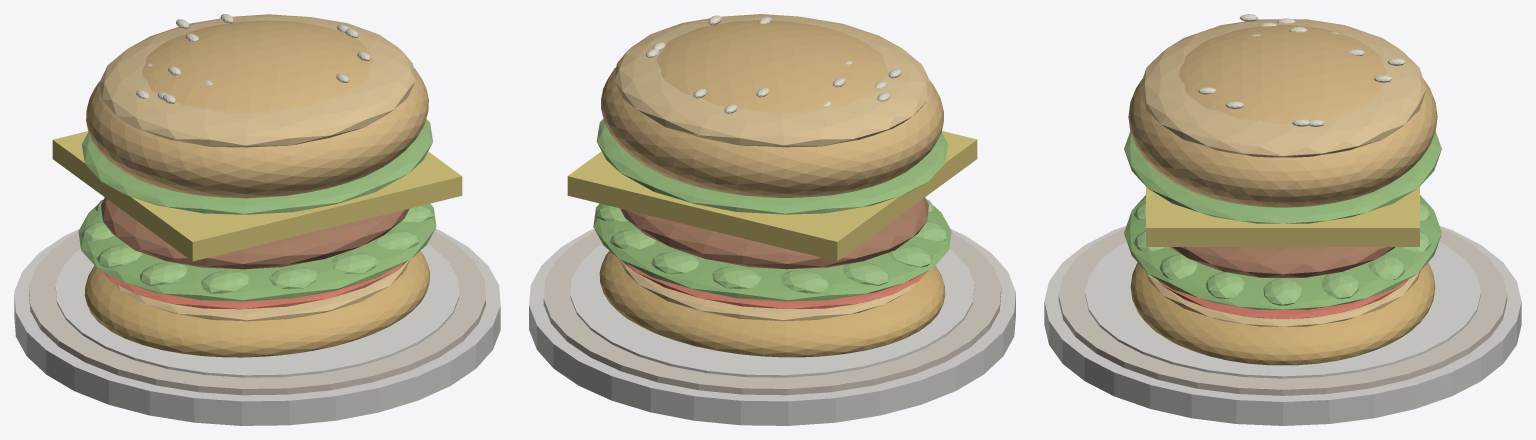
Rendered from burger_bo.glb.
3 renders of one model, left to right at view 1: azimuth 30°, elevation 25°; view 2: azimuth 150°, elevation 25°; view 3: azimuth 270°, elevation 25°, orthographic. The views are drawn at different scales.
Parts seen in each view (by area): view 1: obj_0024, obj_0000, obj_0025, obj_0003, obj_0001, obj_0022, obj_0002, obj_0006, obj_0023, obj_0021, obj_0004, obj_0005 (+6 smaller); view 2: obj_0024, obj_0000, obj_0025, obj_0003, obj_0001, obj_0022, obj_0002, obj_0006, obj_0023, obj_0021, obj_0004, obj_0005 (+6 smaller); view 3: obj_0024, obj_0000, obj_0025, obj_0001, obj_0002, obj_0003, obj_0022, obj_0006, obj_0023, obj_0021, obj_0004, obj_0005 (+5 smaller).
Part boxes in pixels (x1,y1,x2,y2): obj_0024: [86, 20, 428, 198]; obj_0000: [14, 229, 500, 425]; obj_0025: [99, 14, 415, 147]; obj_0003: [84, 251, 430, 357]; obj_0001: [29, 231, 485, 395]; obj_0022: [52, 131, 462, 261]; obj_0002: [55, 244, 459, 377]; obj_0006: [78, 203, 436, 301]; obj_0023: [82, 119, 432, 214]; obj_0021: [101, 197, 409, 269]; obj_0004: [112, 259, 410, 321]; obj_0005: [102, 261, 407, 309]; obj_0024: [601, 20, 943, 197]; obj_0000: [529, 229, 1015, 425]; obj_0025: [614, 14, 930, 147]; obj_0003: [599, 251, 945, 357]; obj_0001: [543, 231, 1001, 395]; obj_0022: [567, 131, 977, 261]; obj_0002: [570, 244, 974, 377]; obj_0006: [593, 203, 951, 301]; obj_0023: [596, 119, 948, 214]; obj_0021: [620, 197, 928, 269]; obj_0004: [619, 259, 917, 321]; obj_0005: [622, 261, 927, 309]; obj_0024: [1128, 25, 1437, 207]; obj_0000: [1044, 226, 1521, 425]; obj_0025: [1139, 19, 1426, 157]; obj_0001: [1058, 227, 1507, 395]; obj_0002: [1085, 242, 1480, 378]; obj_0003: [1130, 262, 1435, 365]; obj_0022: [1146, 187, 1419, 246]; obj_0006: [1124, 195, 1441, 309]; obj_0023: [1124, 132, 1441, 223]; obj_0021: [1171, 247, 1394, 277]; obj_0004: [1145, 271, 1420, 326]; obj_0005: [1158, 280, 1407, 318].
Size of the model in its own units: 2.16 by 1.34 by 2.16.
